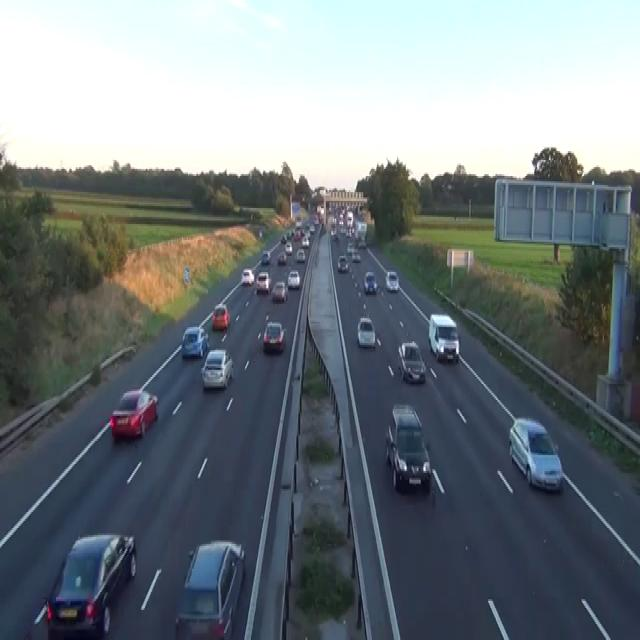Car: (280, 482, 366, 638), (44, 532, 137, 638), (175, 539, 245, 638), (508, 416, 563, 492), (385, 402, 431, 492), (110, 389, 158, 439), (428, 313, 459, 363), (200, 348, 233, 389), (397, 340, 426, 382), (181, 326, 209, 358), (436, 329, 459, 363), (263, 322, 285, 352), (357, 316, 375, 346), (211, 304, 229, 331), (256, 270, 271, 294), (363, 270, 377, 294), (271, 281, 287, 302), (385, 270, 399, 292), (241, 266, 254, 284), (287, 270, 300, 288), (337, 254, 348, 272), (261, 251, 270, 265), (277, 251, 286, 265), (296, 249, 305, 261), (285, 242, 293, 254), (346, 242, 354, 254), (301, 235, 309, 247), (351, 251, 360, 261), (357, 237, 366, 247), (295, 215, 302, 226), (293, 229, 300, 240), (330, 228, 337, 238), (313, 213, 319, 224), (280, 233, 286, 243), (346, 212, 352, 222), (286, 230, 293, 238), (338, 215, 343, 226), (309, 224, 315, 233), (345, 228, 351, 236), (331, 217, 336, 226), (258, 228, 262, 238)
